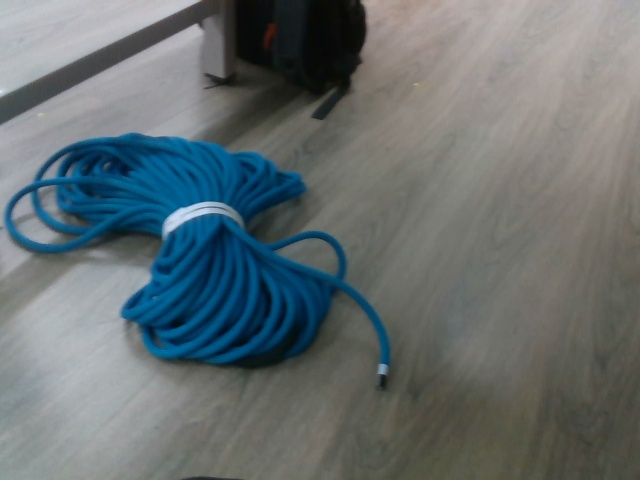rope: (2, 130, 396, 395)
